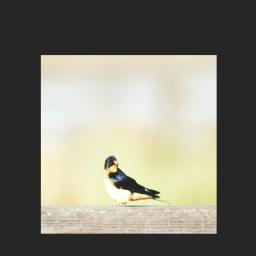Swallow: (103, 155, 171, 209)
